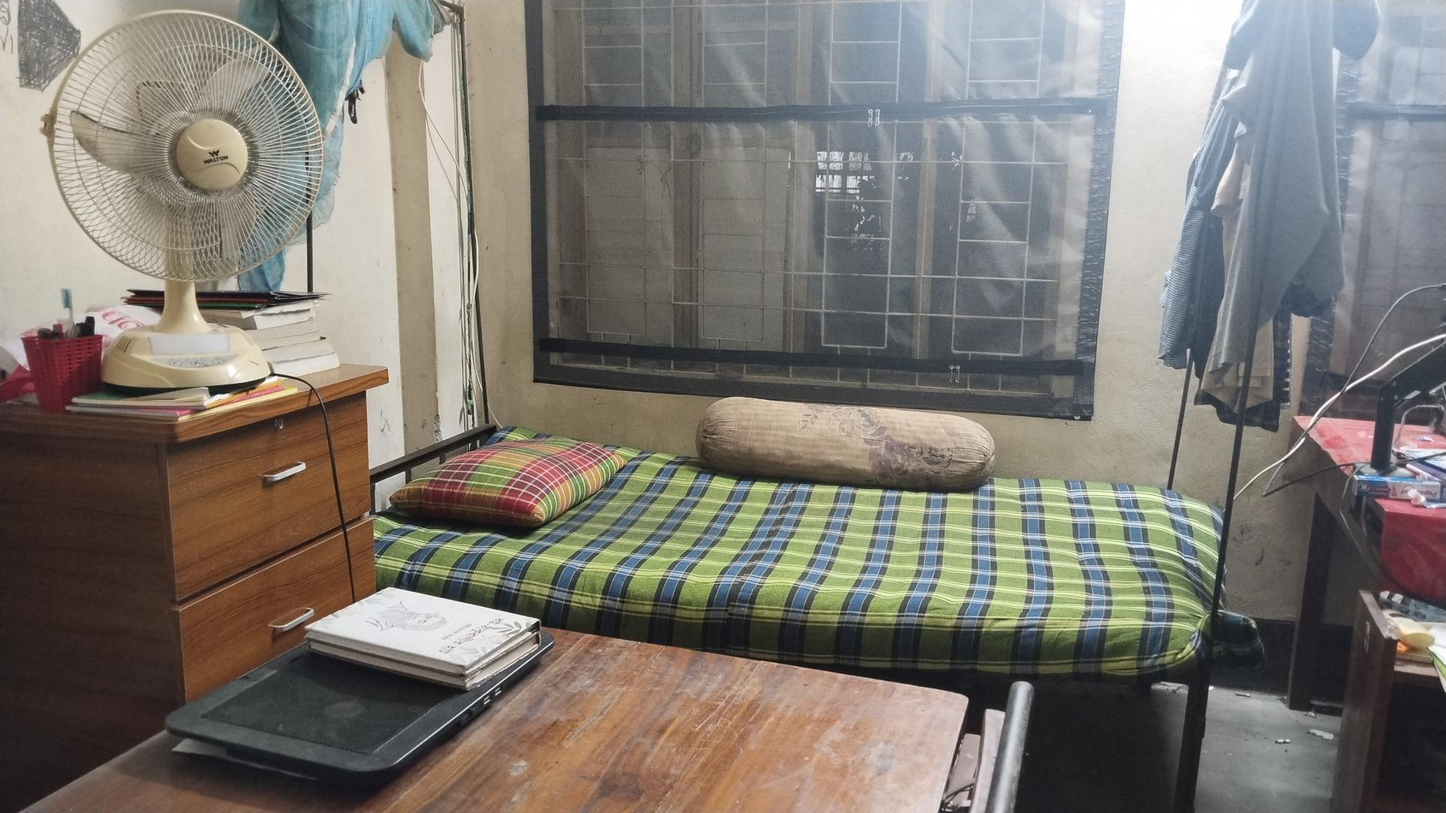Book: (305, 584, 541, 689)
Fan: (53, 9, 324, 390)
Pillow: (698, 397, 995, 490), (397, 440, 626, 523)
Window: (932, 3, 1064, 383), (544, 2, 679, 365), (684, 0, 806, 364), (811, 3, 922, 374)
